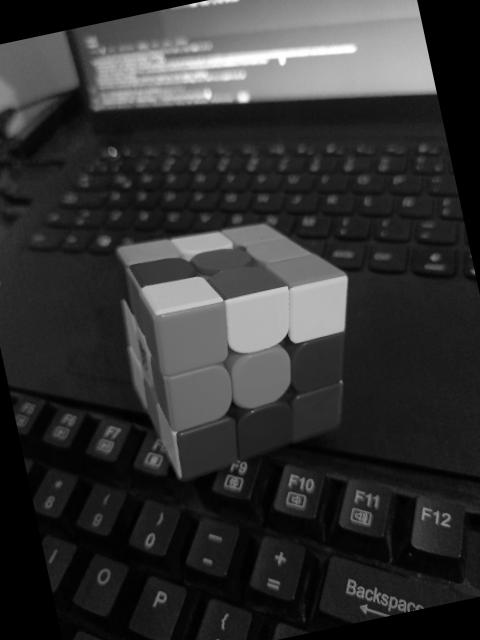rubik: (103, 198, 382, 486)
